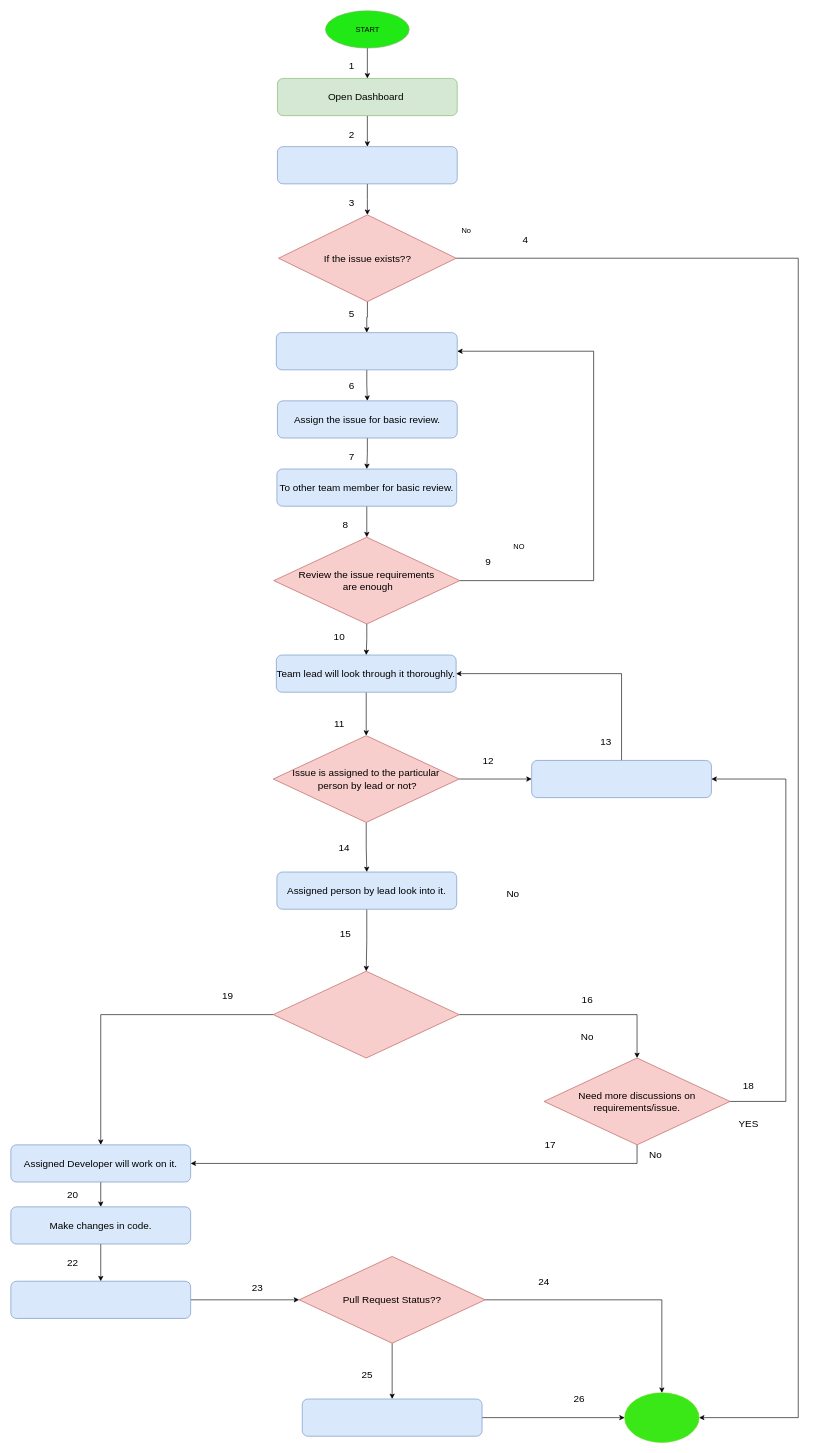
Some shapes in this 814 by 1453 pixel diagram are drawn without their labels. Each missing label, with the box of its shape:
Commit Changes/Pull request submitted.: (10, 1281, 191, 1318)
Describe the issue title description and label it.: (276, 332, 457, 370)
END: (624, 1392, 699, 1442)
Information by team is enough to work for.: (273, 971, 459, 1058)
Issue resolved successfully.: (302, 1398, 482, 1436)
Open Repository: (277, 146, 457, 184)
Refer to the team lead.: (531, 760, 711, 798)
